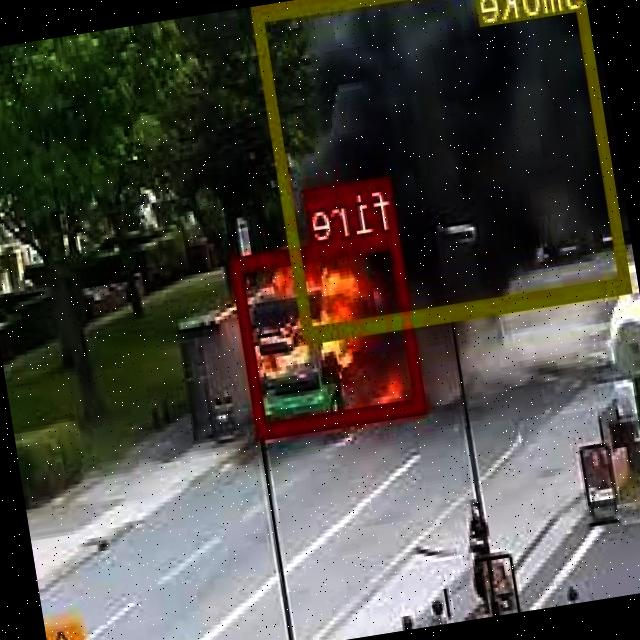fire: (232, 228, 428, 434)
smoke: (253, 0, 633, 341)
